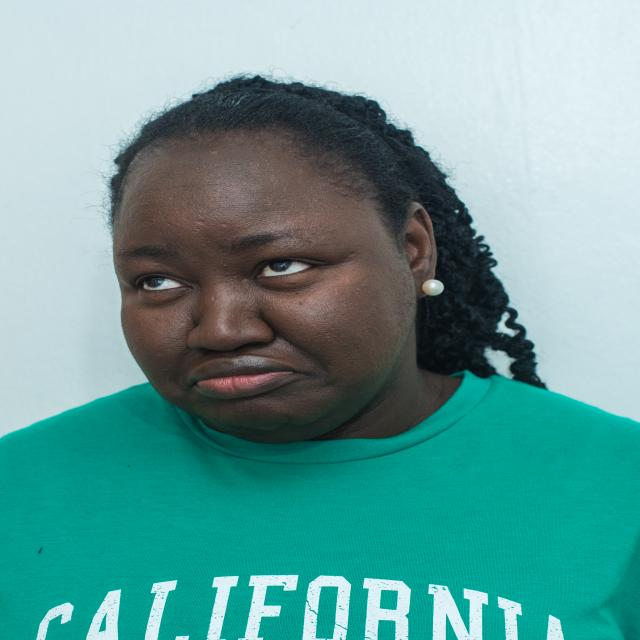sad: (98, 87, 450, 444)
